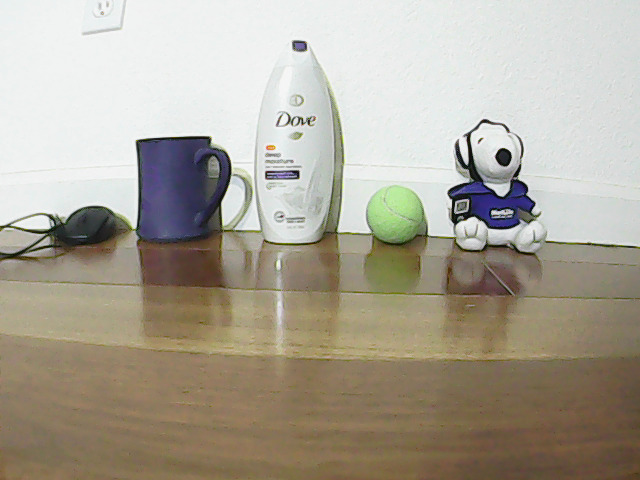ball: (368, 170, 430, 252)
mouse: (53, 186, 120, 248)
mug: (128, 118, 235, 246)
snoopy: (451, 106, 549, 255)
soap: (256, 32, 332, 245)
